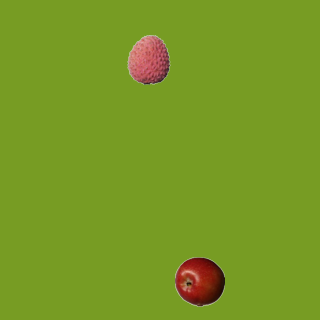Apple Braeburn: (174, 256, 224, 306)
Lychee: (123, 34, 173, 84)
